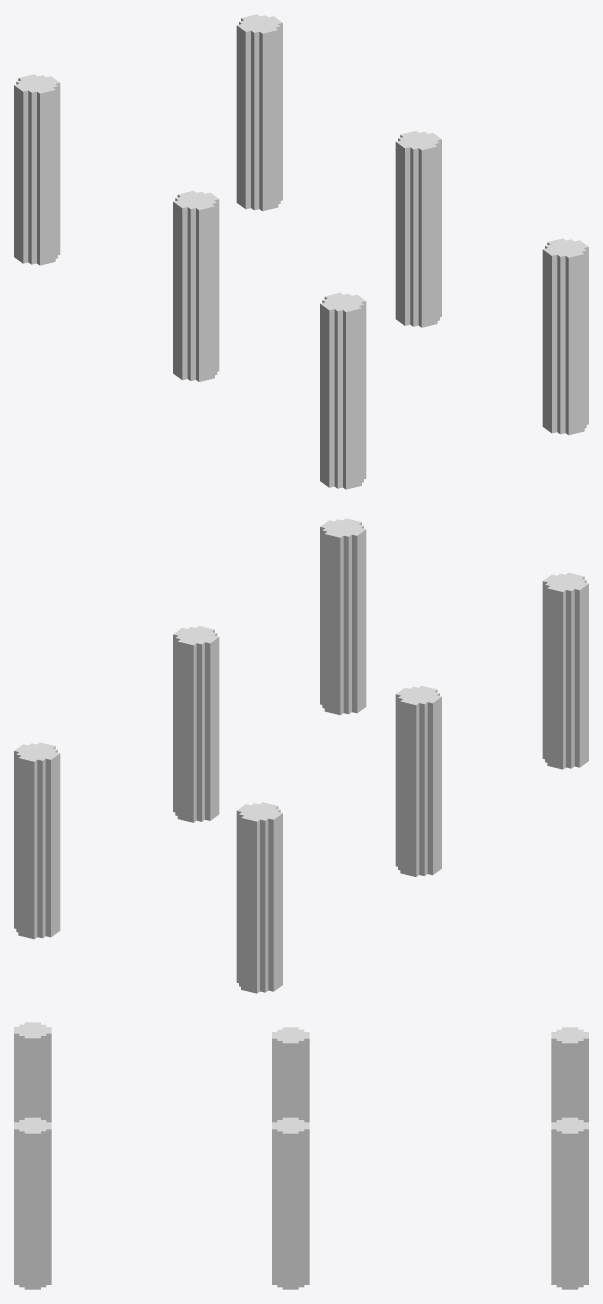
File: subway2-0.obj
3 renders of one model, top to bottom at view 1: azimuth 30°, elevation 25°; view 2: azimuth 150°, elevation 25°; view 3: azimuth 270°, elevation 25°, orthographic. The views are drawn at different scales.
Bounding box in the file's own units: 4.9 × 3.2 × 10.7.
1 material, 1 textured.
